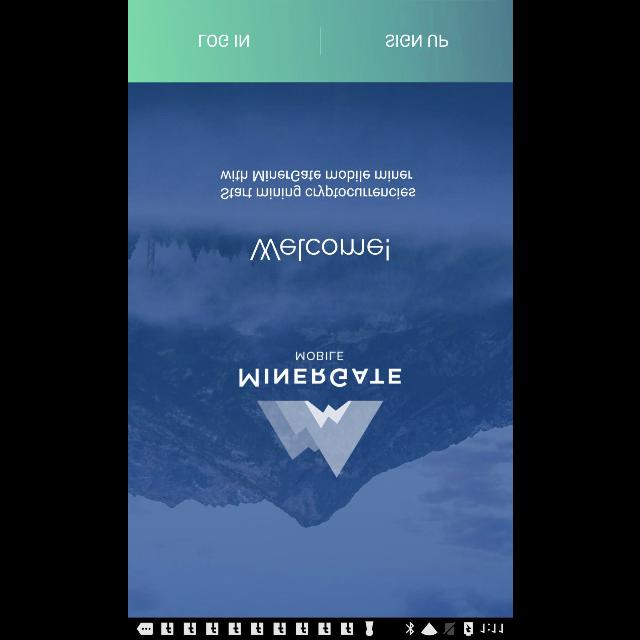backgroundimage: (128, 83, 512, 617)
image: (256, 400, 382, 478)
text: (219, 170, 415, 200), (238, 368, 402, 388), (249, 238, 389, 260), (294, 351, 344, 362)
textbutton: (320, 0, 512, 82), (127, 0, 319, 82)
uppertaskbar: (128, 617, 512, 639)
